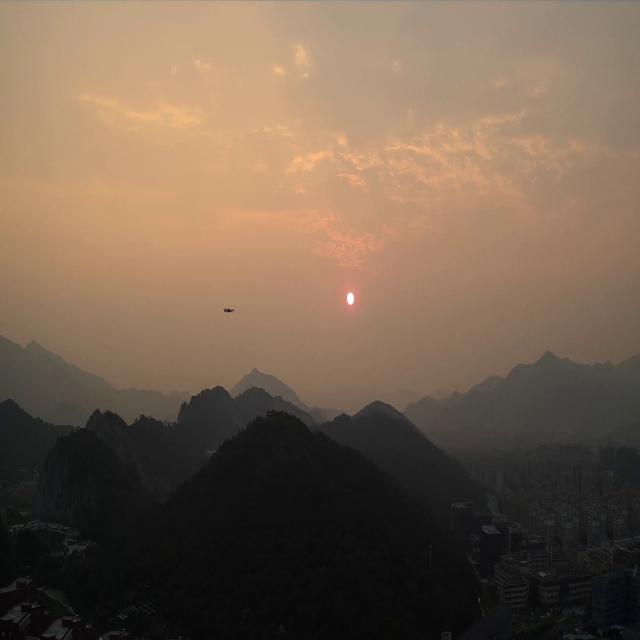UAV: (222, 306, 235, 314)
